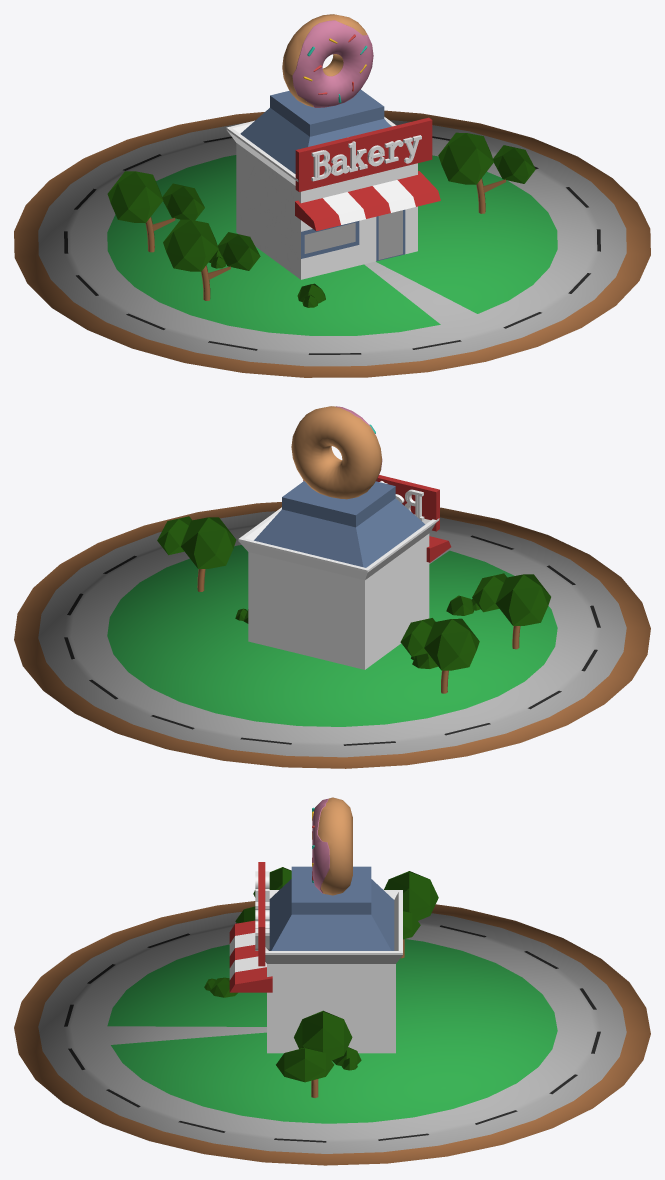
Rendered from Bakery_1243.gltf.
The picture shows the model from 3 angles, top to bottom: view 1: azimuth 30°, elevation 25°; view 2: azimuth 150°, elevation 25°; view 3: azimuth 270°, elevation 25°; orthographic projection.
Visible parts, largest first — view 1: node-0; view 2: node-0; view 3: node-0.
Boxes of the visible parts, x1,y1,x2,y2 form: node-0: (14, 14, 650, 377); node-0: (14, 406, 650, 768); node-0: (14, 797, 650, 1165).
Size of the model in its own units: 144 by 59.25 by 144.
